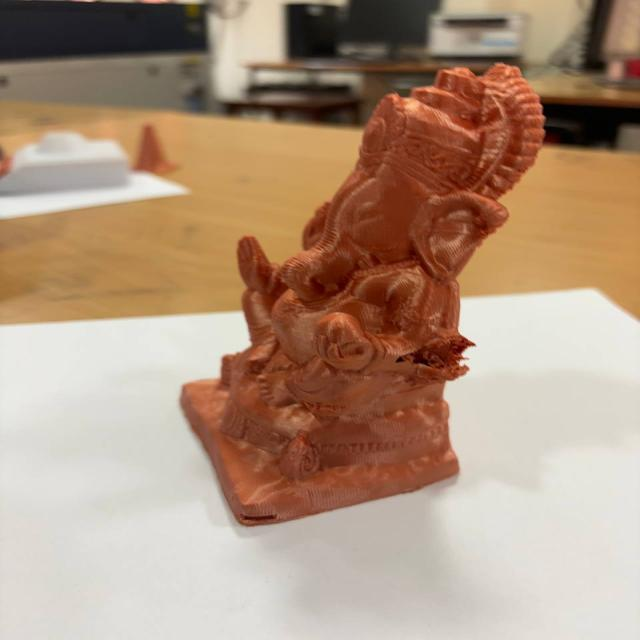cracks: (395, 322, 470, 396), (227, 500, 297, 528)
